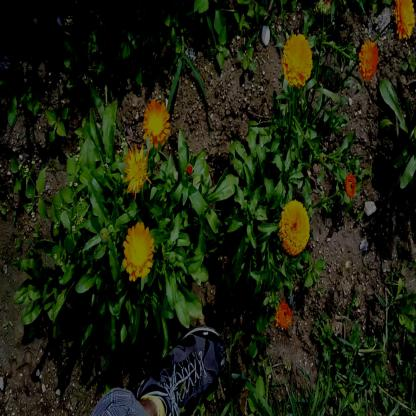marigold: (122, 221, 154, 281), (279, 198, 310, 256), (282, 35, 312, 87), (123, 147, 149, 194), (142, 98, 167, 140), (394, 0, 416, 41), (358, 41, 378, 76), (275, 300, 292, 331)
